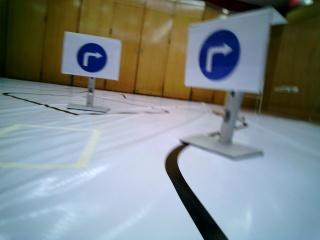right: (190, 25, 260, 88), (69, 35, 123, 81)
